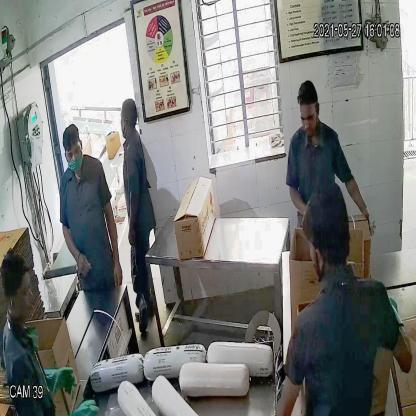no_goggles: (60, 137, 86, 162), (297, 108, 320, 126)
